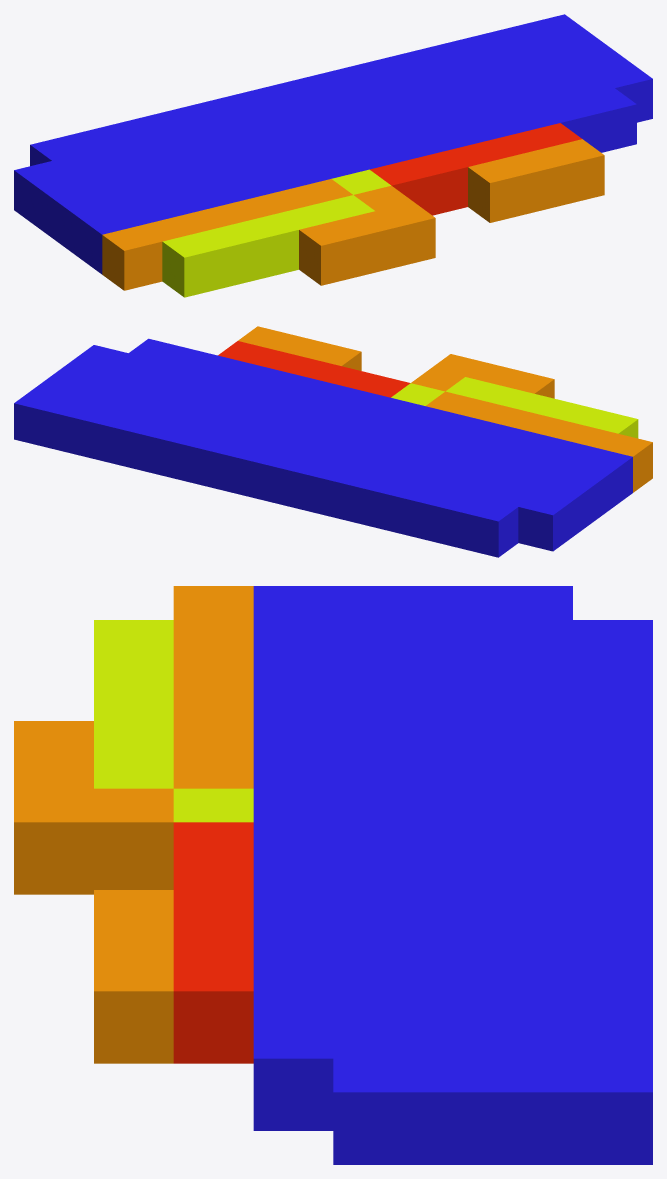
3 views of the same model, one above another, from view 1: azimuth 30°, elevation 25°; view 2: azimuth 150°, elevation 25°; view 3: azimuth 270°, elevation 25° (orthographic). The views are drawn at different scales.
Visible parts, largest first — view 1: Cube, Cube.006, Cube.015, Cube.022, Cube.021, Cube.023, Cube.001, Cube.002, Cube.007, Cube.017, Cube.036, Cube.008 (+85 smaller); view 2: Cube.074, Cube.086, Cube.090, Cube.088, Cube.089, Cube.094, Cube.087, Cube.092, Cube.083, Cube.084, Cube.093, Cube.096 (+85 smaller); view 3: Cube.016, Cube.052, Cube.067, Cube.036, Cube.021, Cube.082, Cube.096, Cube.002, Cube.005, Cube.020, Cube.045, Cube.049 (+85 smaller).
Boxes of the visible parts, x1,y1,x2,y2 form: Cube: (299,220,359,285); Cube.006: (162,232,222,297); Cube.015: (102,225,162,290); Cube.022: (468,158,528,222); Cube.021: (544,139,604,204); Cube.023: (506,148,566,213); Cube.001: (337,211,397,276); Cube.002: (375,202,435,266); Cube.007: (201,223,260,288); Cube.017: (408,151,467,215); Cube.036: (577,88,636,152); Cube.008: (239,213,298,278); Cube.074: (518,492,572,551); Cube.086: (464,498,518,557); Cube.090: (221,439,275,498); Cube.088: (394,481,448,540); Cube.089: (117,414,171,472); Cube.094: (48,397,102,456); Cube.087: (429,490,483,549); Cube.092: (152,422,206,481); Cube.083: (360,473,414,532); Cube.084: (325,464,379,523); Cube.093: (256,448,310,506); Cube.096: (14,388,68,447); Cube.016: (173,957,253,1063); Cube.052: (333,1058,413,1164); Cube.067: (413,1058,493,1164); Cube.036: (253,1025,333,1130); Cube.021: (94,957,173,1063); Cube.082: (493,1058,572,1164); Cube.096: (573,1058,652,1164); Cube.002: (14,788,93,894); Cube.005: (94,788,173,889); Cube.020: (173,822,253,856); Cube.045: (333,957,413,991); Cube.049: (333,822,413,856).
Bounding box in the file's own units: 1500 × 100 × 800.
